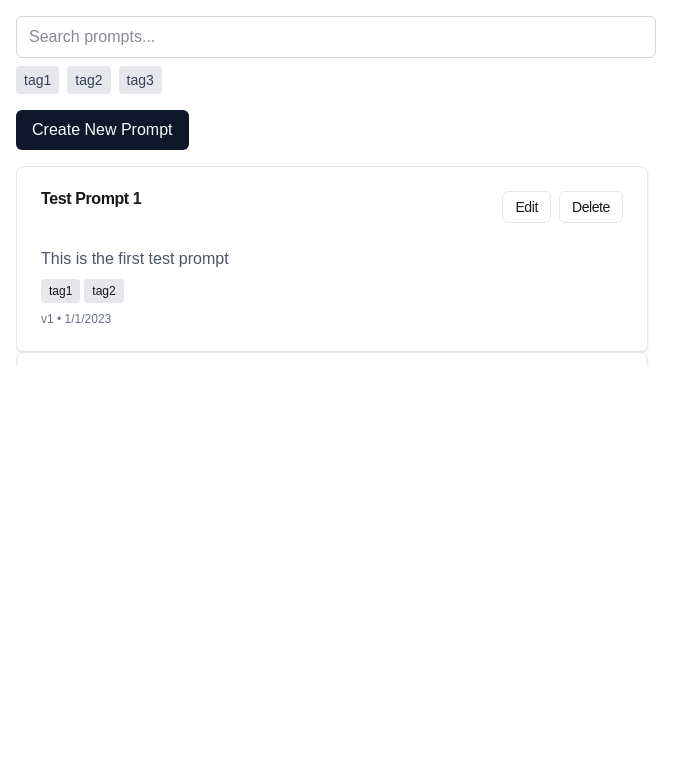
Test case: PromptLibrary › shows create prompt form when Create New Prompt is clicked
Click the button "Create New Prompt" at (102, 130), box x1=16 y1=110 x2=188 y2=150
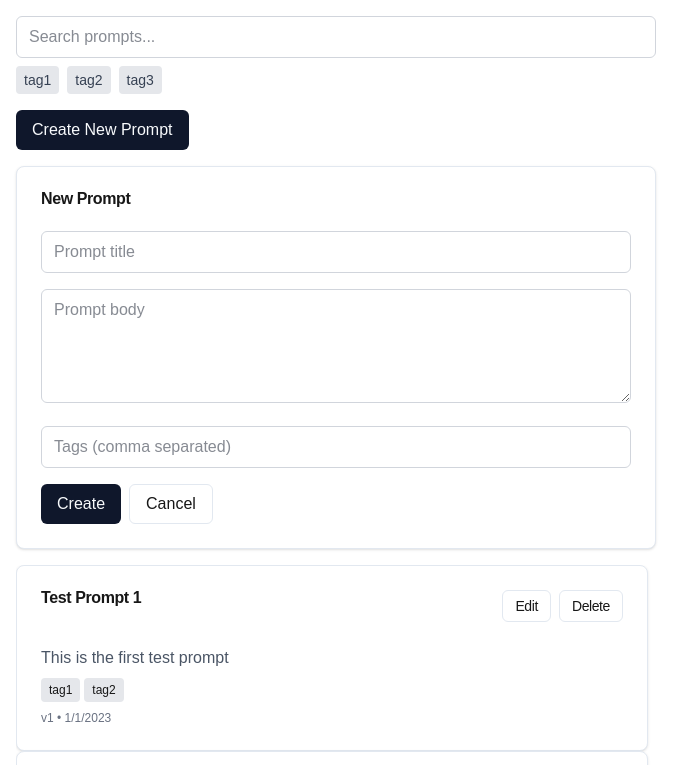
Check: the heading "New Prompt" is shown, box x1=41 y1=190 x2=130 y2=207
Check: the field with placeholder "Prompt title" is shown, box x1=41 y1=231 x2=631 y2=273
Check: the text box with placeholder "Prompt body" is shown, box x1=41 y1=289 x2=631 y2=403
